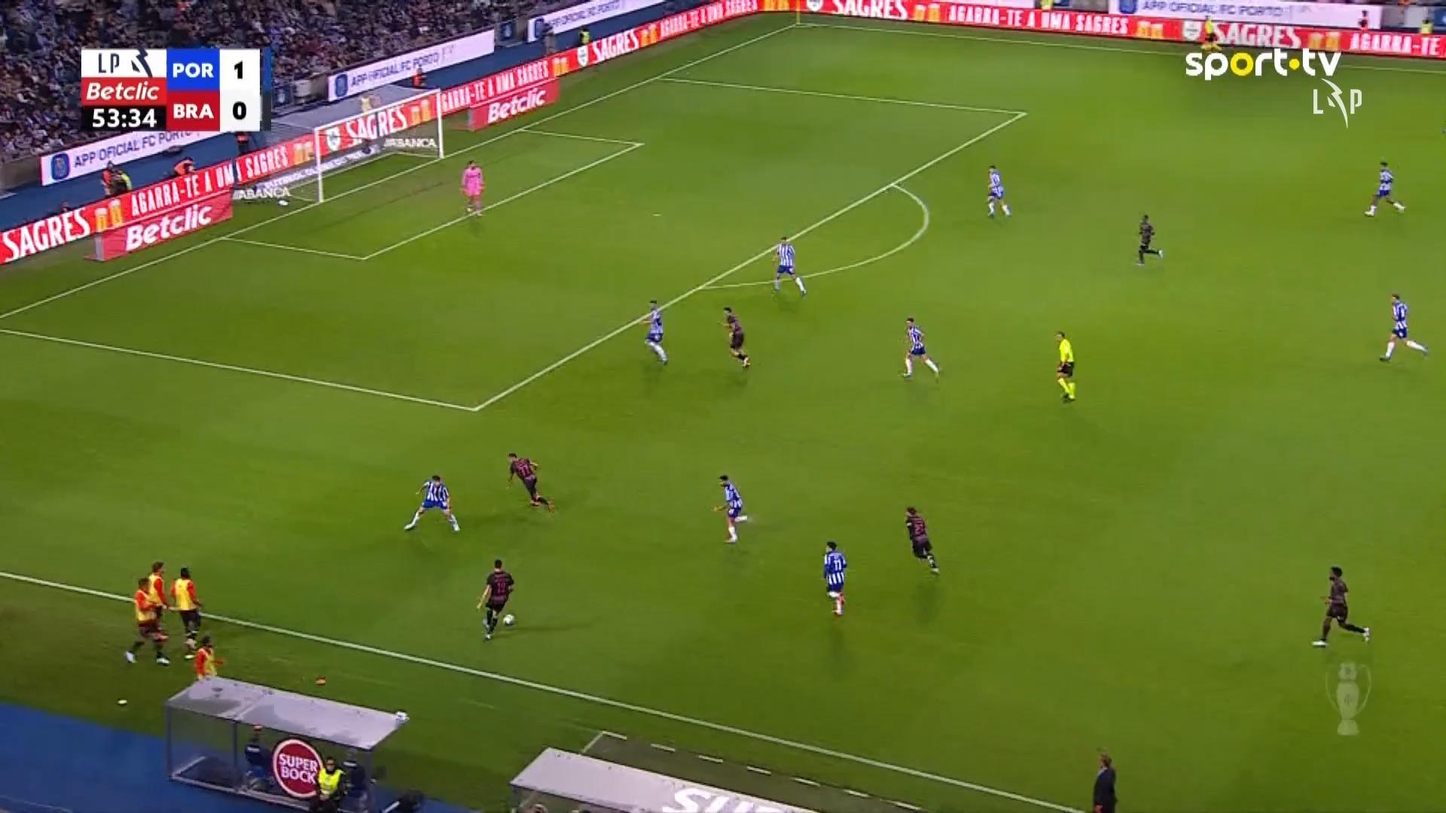ball: (502, 614, 514, 626)
goalkeeper: (459, 158, 484, 217)
player: (1311, 565, 1371, 647), (1378, 292, 1429, 361), (403, 473, 460, 533), (475, 558, 514, 641), (505, 451, 554, 513), (901, 316, 941, 382), (904, 505, 939, 574), (1363, 160, 1405, 217), (712, 473, 746, 543), (770, 235, 807, 298), (719, 306, 750, 369), (822, 540, 847, 617), (313, 755, 348, 810), (643, 299, 668, 364), (1135, 214, 1163, 266), (985, 163, 1011, 218)
referee: (124, 577, 171, 664), (1091, 749, 1118, 811), (1053, 329, 1075, 402), (194, 634, 224, 681)
